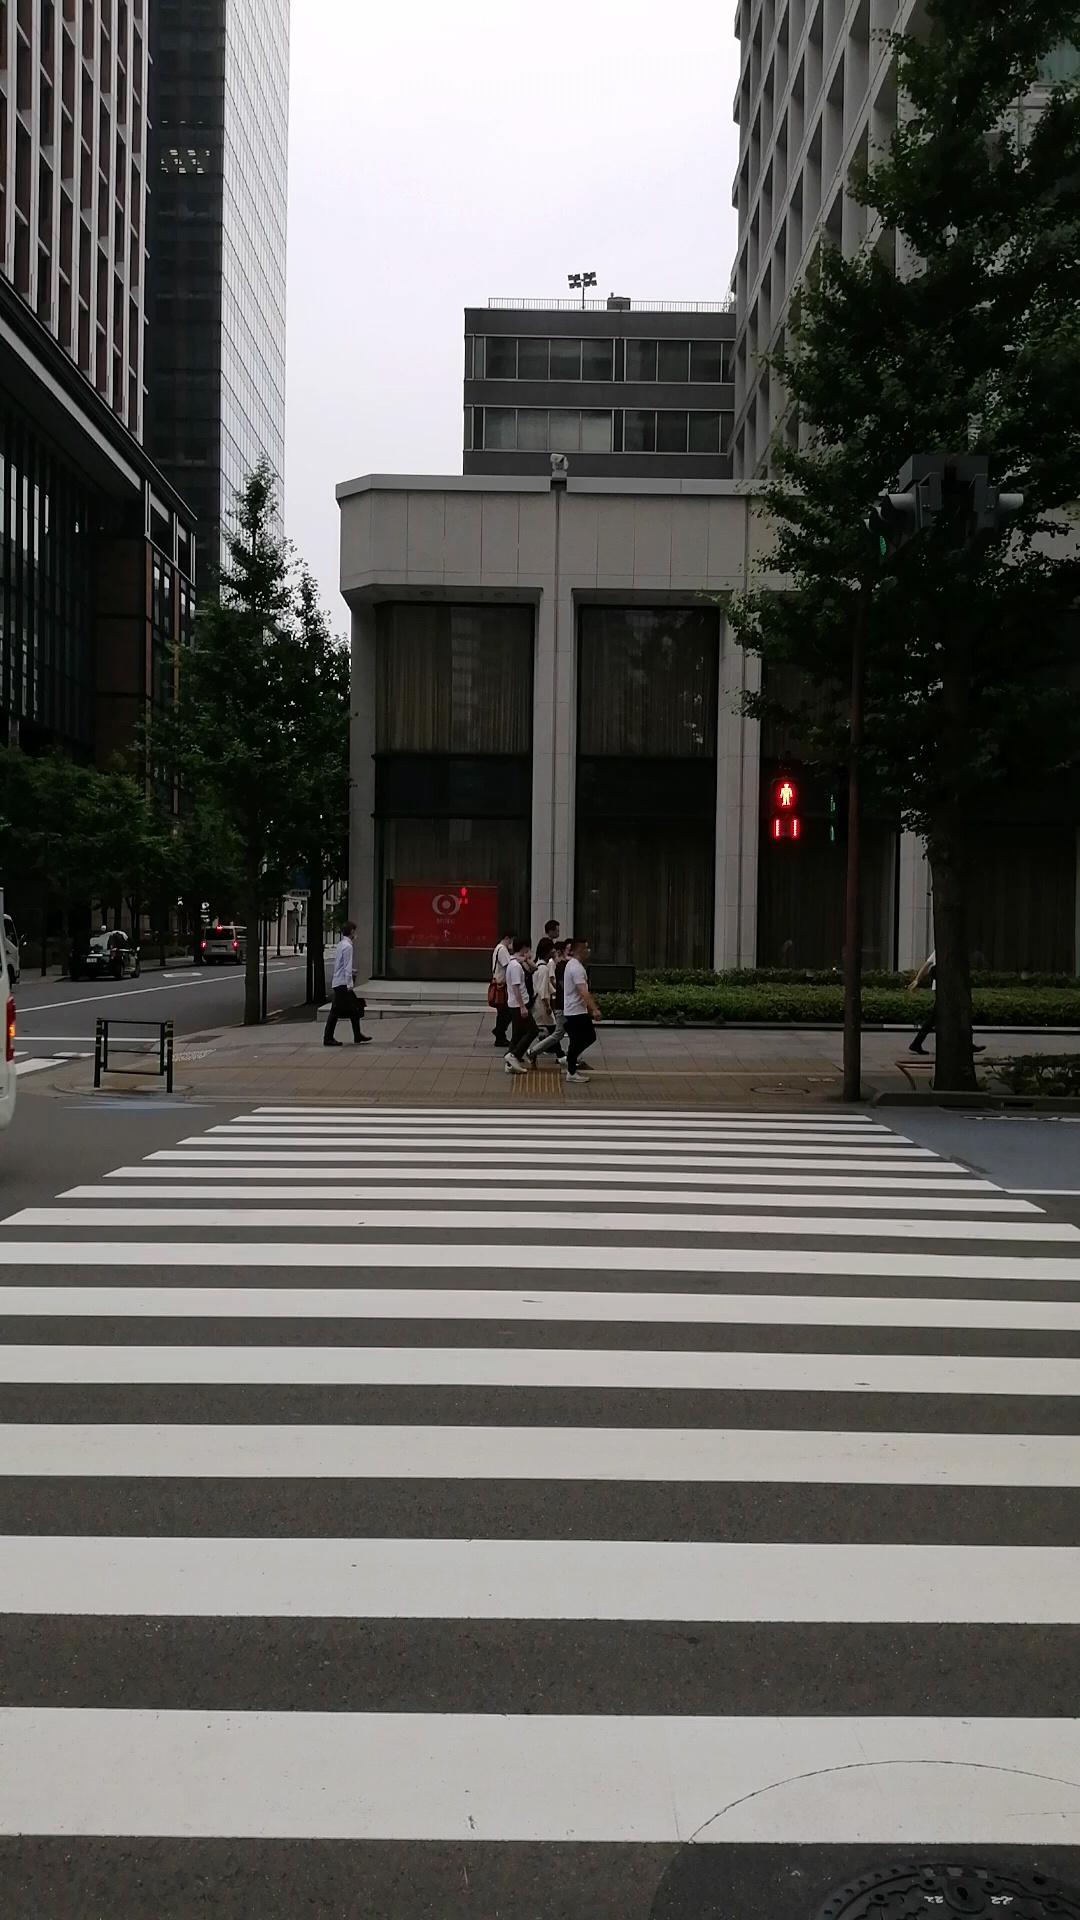red: (767, 771, 804, 844)
